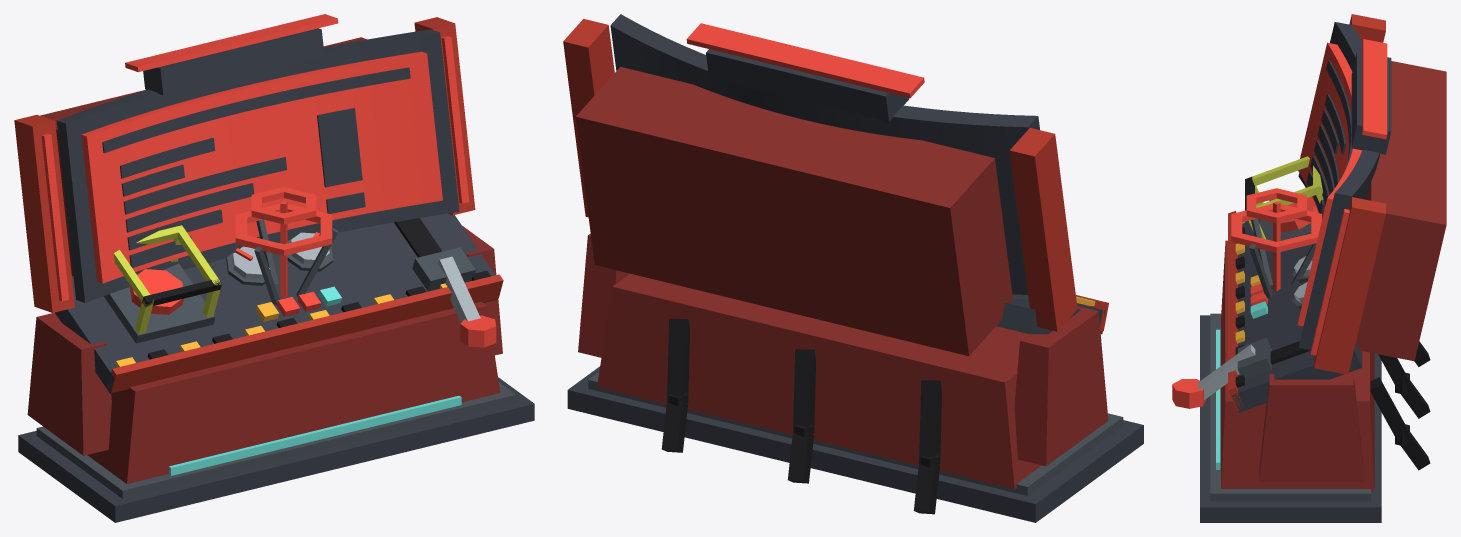
File: GV_ShipTerminalLaunch_01.glb
The picture shows the model from 3 angles, left to right: view 1: azimuth 30°, elevation 25°; view 2: azimuth 150°, elevation 25°; view 3: azimuth 270°, elevation 25°; orthographic projection. The views are drawn at different scales.
Parts seen in each view (by area): view 1: GV_ShipTerminalLaunch_01; view 2: GV_ShipTerminalLaunch_01; view 3: GV_ShipTerminalLaunch_01.
Boxes of the visible parts, x1,y1,x2,y2 form: GV_ShipTerminalLaunch_01: [14, 14, 534, 522]; GV_ShipTerminalLaunch_01: [563, 14, 1143, 522]; GV_ShipTerminalLaunch_01: [1172, 14, 1446, 522].
Size of the model in its own units: 1.31 by 1.08 by 0.785.
1 material, 1 textured.
